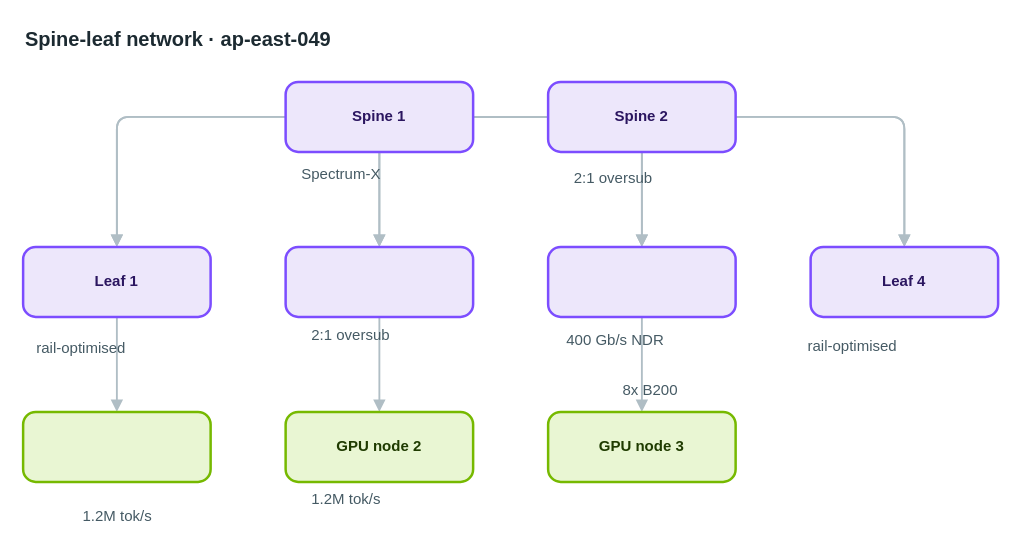
Some shapes in this 1020 by 548 pixel diagram are drawn without their labels. The box of each missing label's shape, as (x1, y1, x2, y2) in pixels:
GPU node 1: (21, 410, 211, 482)
Leaf 2: (284, 245, 474, 318)
Leaf 3: (546, 245, 736, 318)
